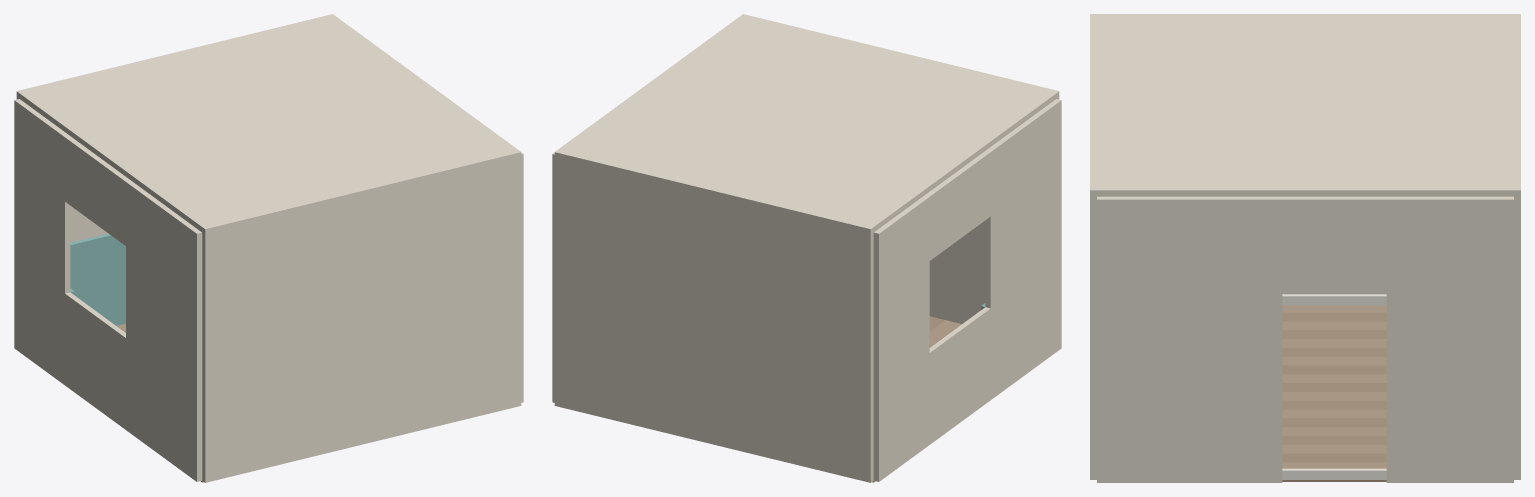
File: shop-room.glb
3 renders of one model, left to right at view 1: azimuth 30°, elevation 25°; view 2: azimuth 150°, elevation 25°; view 3: azimuth 270°, elevation 25°, orthographic. The views are drawn at different scales.
Visible parts, largest first — view 1: room; view 2: room; view 3: room.
Boxes of the visible parts, x1=… form: room: x1=14, y1=14, x2=523, y2=482; room: x1=552, y1=14, x2=1061, y2=482; room: x1=1090, y1=14, x2=1520, y2=482.
Size of the model in its own units: 3.72 by 2.78 by 3.72.
